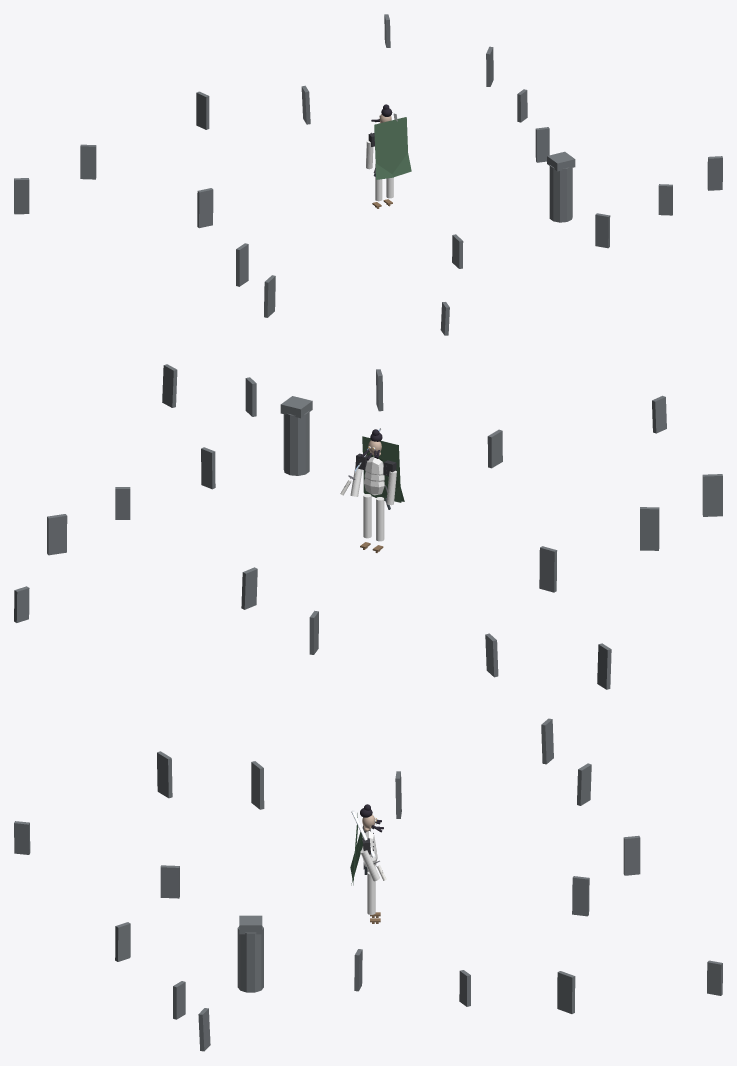
The model's file is ronin_cinematic_v0.2.glb.
3 views of the same model, one above another, from view 1: azimuth 30°, elevation 25°; view 2: azimuth 150°, elevation 25°; view 3: azimuth 270°, elevation 25° (orthographic). The views are drawn at different scales.
Visible parts, largest first — view 1: Cloth_Haori_0, Env_StoneLantern, Env_Gravestone_8, Env_Gravestone_6, Env_Gravestone_7, Env_Gravestone_15, Env_Gravestone_9; view 2: Env_StoneLantern, Env_Gravestone_10, Env_Gravestone_9, Env_Gravestone_2, Env_Gravestone_8, Cloth_Haori_0, Env_Gravestone_4, Env_Gravestone_7, Env_Gravestone_15, Env_Gravestone_0, Env_Gravestone_3, Env_Gravestone_1 (+2 smaller); view 3: Env_StoneLantern, Env_Gravestone_2, Env_Gravestone_4, Env_Gravestone_5, Env_Gravestone_12, Env_Gravestone_10, Env_Gravestone_13, Env_Gravestone_9, Env_Gravestone_6, Env_Gravestone_11, Env_Gravestone_3.
Boxes of the visible parts, bbox=[...] form: Cloth_Haori_0: bbox=[374, 117, 407, 174]; Env_StoneLantern: bbox=[549, 165, 572, 222]; Env_Gravestone_8: bbox=[197, 188, 213, 228]; Env_Gravestone_6: bbox=[80, 144, 96, 179]; Env_Gravestone_7: bbox=[14, 178, 29, 214]; Env_Gravestone_15: bbox=[707, 156, 722, 190]; Env_Gravestone_9: bbox=[236, 243, 248, 286]; Env_StoneLantern: bbox=[283, 411, 309, 475]; Env_Gravestone_10: bbox=[702, 474, 722, 516]; Env_Gravestone_9: bbox=[640, 507, 659, 550]; Env_Gravestone_2: bbox=[47, 514, 67, 555]; Env_Gravestone_8: bbox=[539, 546, 557, 592]; Cloth_Haori_0: bbox=[362, 436, 401, 502]; Env_Gravestone_4: bbox=[241, 567, 257, 609]; Env_Gravestone_7: bbox=[597, 643, 611, 689]; Env_Gravestone_15: bbox=[162, 364, 177, 407]; Env_Gravestone_0: bbox=[201, 447, 215, 489]; Env_Gravestone_3: bbox=[14, 586, 29, 622]; Env_Gravestone_1: bbox=[115, 487, 130, 519]; Env_StoneLantern: bbox=[237, 926, 263, 992]; Env_Gravestone_2: bbox=[557, 971, 575, 1013]; Env_Gravestone_4: bbox=[572, 876, 589, 916]; Env_Gravestone_5: bbox=[623, 835, 640, 875]; Env_Gravestone_12: bbox=[160, 865, 179, 898]; Env_Gravestone_10: bbox=[157, 751, 172, 798]; Env_Gravestone_13: bbox=[115, 922, 130, 961]; Env_Gravestone_9: bbox=[251, 761, 264, 809]; Env_Gravestone_6: bbox=[577, 763, 591, 805]; Env_Gravestone_11: bbox=[14, 821, 30, 854]; Env_Gravestone_3: bbox=[707, 960, 722, 995].
Size of what is drawn, in the model's own units: 10.83 by 1.95 by 10.81.
